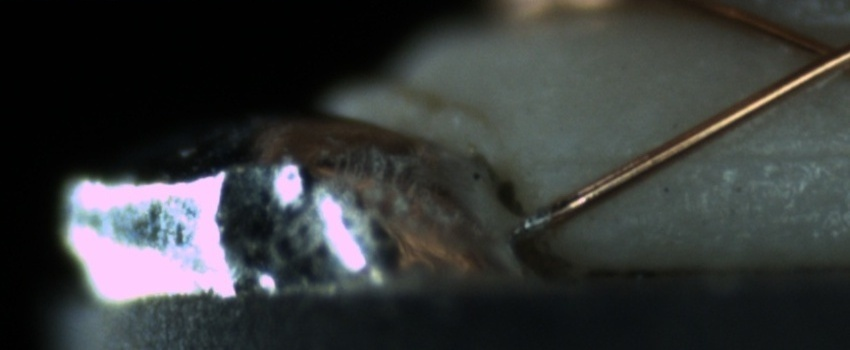CL: (781, 22, 848, 90)
DL: (556, 123, 850, 187)
TS: (515, 207, 555, 239)
